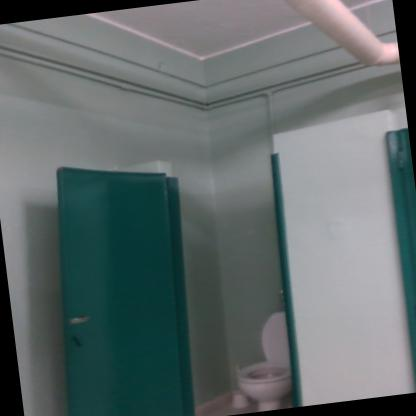open: (48, 133, 331, 415)
